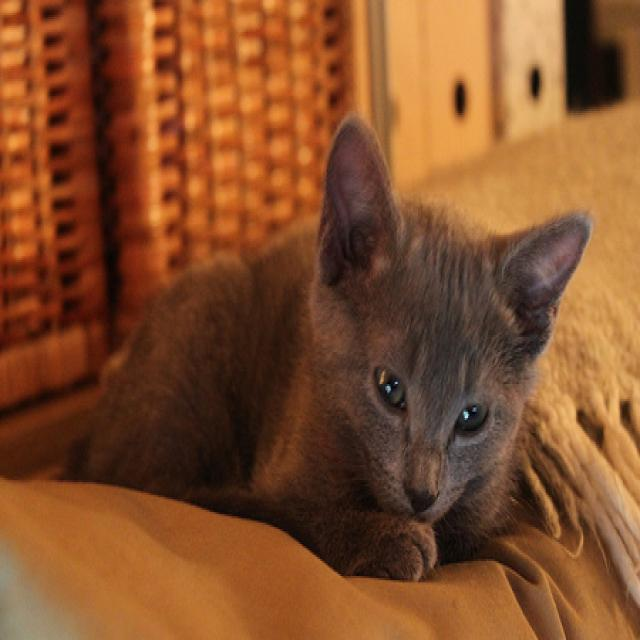Russian Blue: (68, 115, 594, 590)
